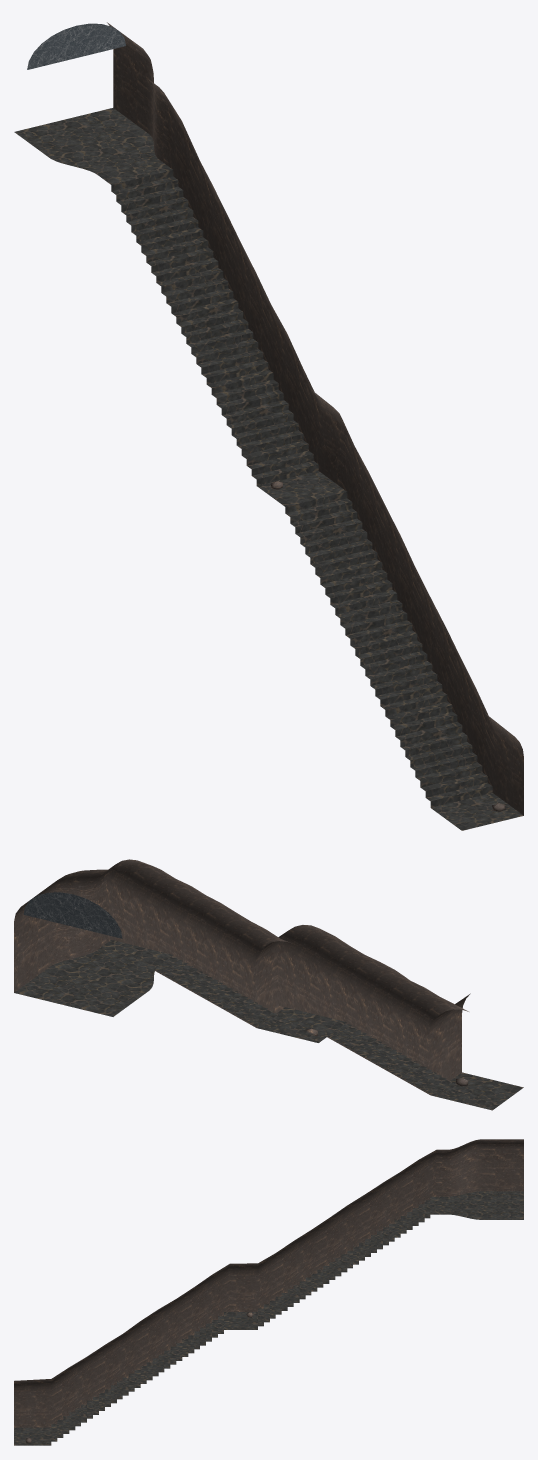
The model's file is stairs-deep.ae82b8be.gltf.
3 renders of one model, top to bottom at view 1: azimuth 30°, elevation 25°; view 2: azimuth 150°, elevation 25°; view 3: azimuth 270°, elevation 25°, orthographic. The views are drawn at different scales.
Parts seen in each view (by area): view 1: stairs-deep-mesh; view 2: stairs-deep-mesh; view 3: stairs-deep-mesh.
Part boxes in pixels (box(x1,y1,x2,y2)): stairs-deep-mesh: box(14, 22, 523, 830); stairs-deep-mesh: box(14, 859, 523, 1110); stairs-deep-mesh: box(14, 1139, 523, 1445).
Size of the model in its own units: 3.2 by 15.27 by 24.
Materials: 3 (3 with a texture image).
